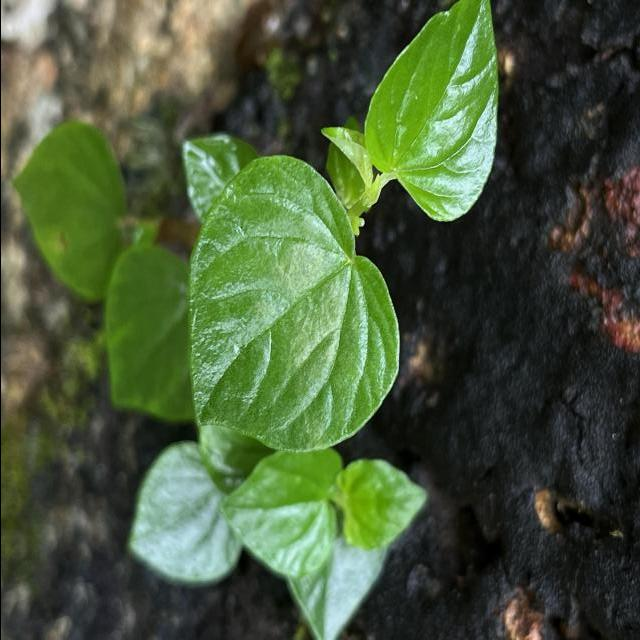Peperomia pellucida: (184, 150, 404, 452)
